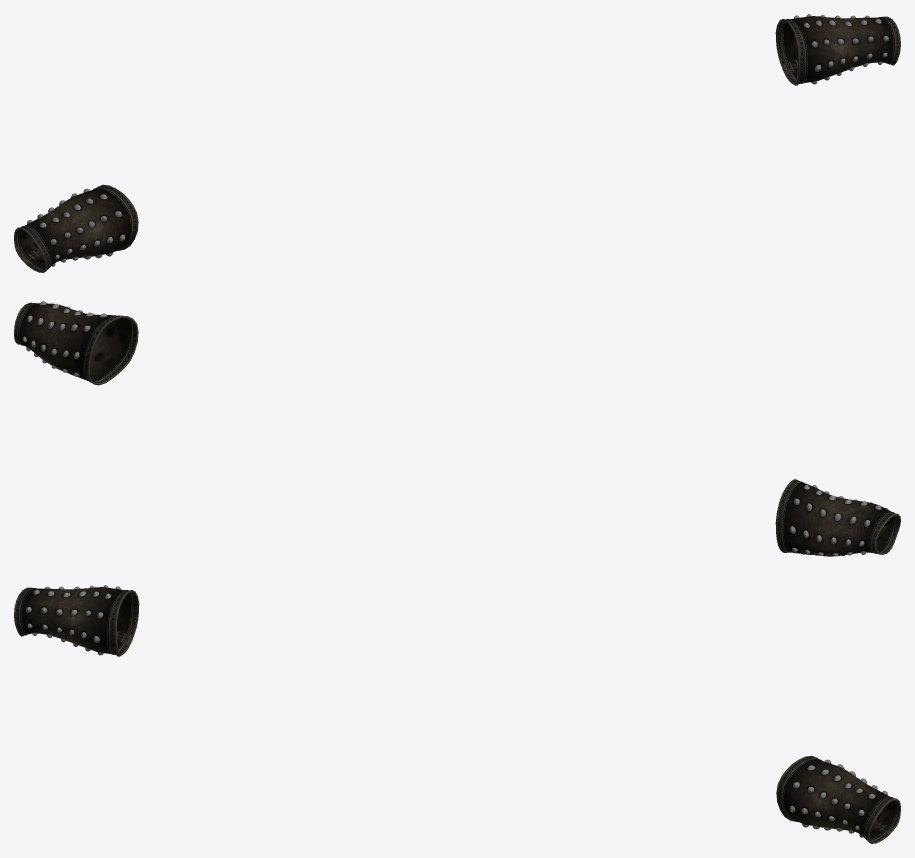
The model's file is hand goloves.fbx.
The picture shows the model from 3 angles, top to bottom: view 1: azimuth 30°, elevation 25°; view 2: azimuth 150°, elevation 25°; view 3: azimuth 330°, elevation 25°; orthographic projection.
Parts seen in each view (by area): view 1: hand_gloves; view 2: hand_gloves; view 3: hand_gloves.
Boxes of the visible parts, left/top/right/bottom form: hand_gloves: left=14, top=14, right=900, bottom=272; hand_gloves: left=14, top=301, right=900, bottom=556; hand_gloves: left=14, top=585, right=900, bottom=843.
Bounding box in the file's own units: 128 × 8.84 × 10.32.
